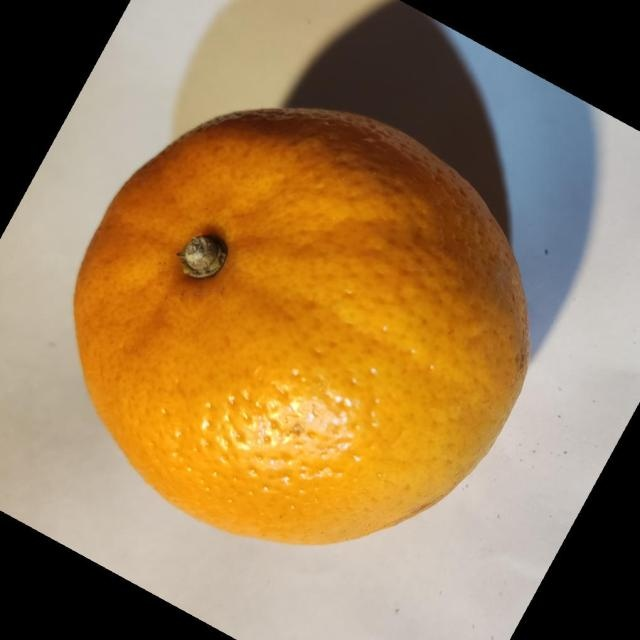agrume: (71, 105, 531, 546)
